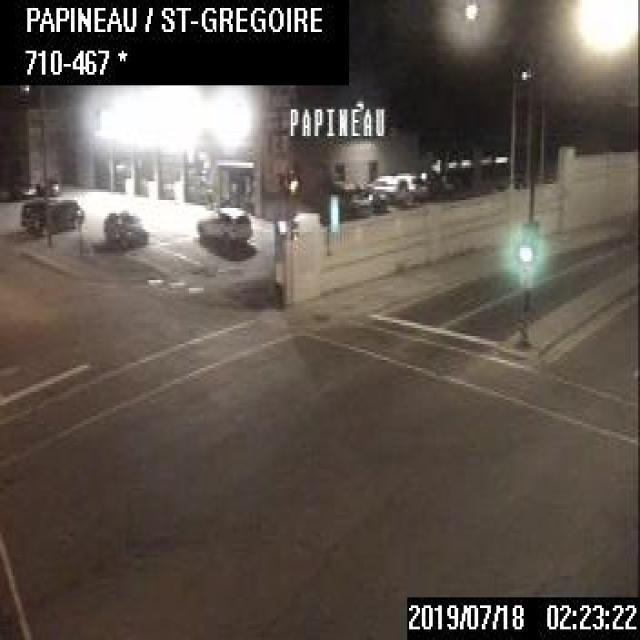vehicle: (195, 203, 251, 254), (19, 195, 85, 232), (101, 208, 148, 249), (322, 179, 371, 216), (370, 172, 404, 201), (396, 168, 423, 202), (358, 181, 386, 211)
